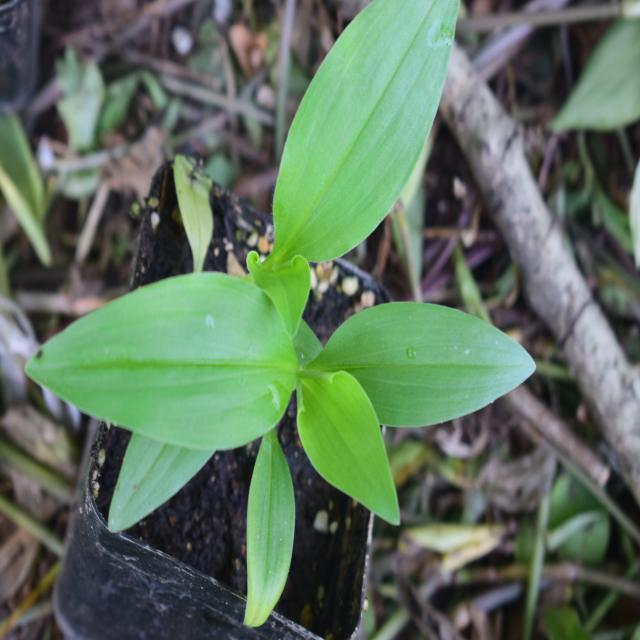Common Dayflower: (35, 241, 502, 561), (247, 0, 486, 253)
